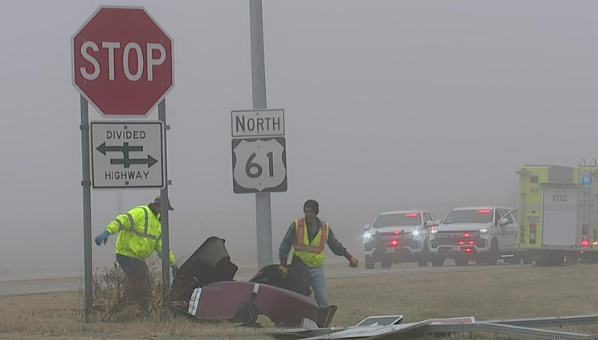Stop: (61, 0, 176, 121)
